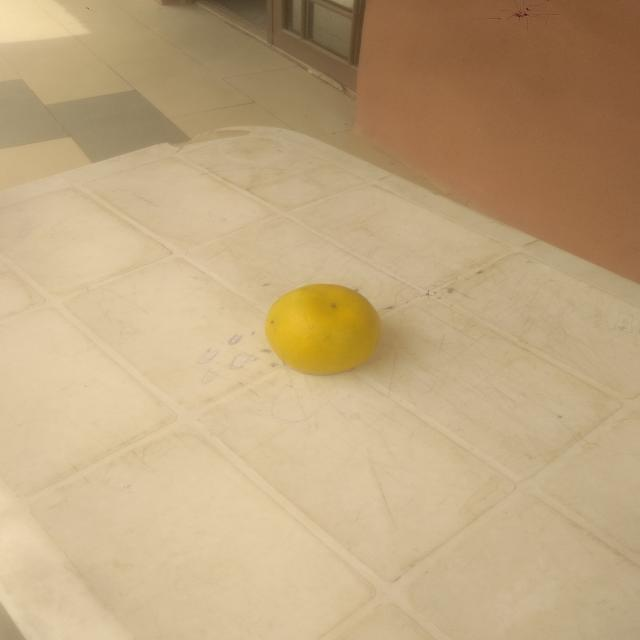Ripe orange: (264, 280, 386, 385)
